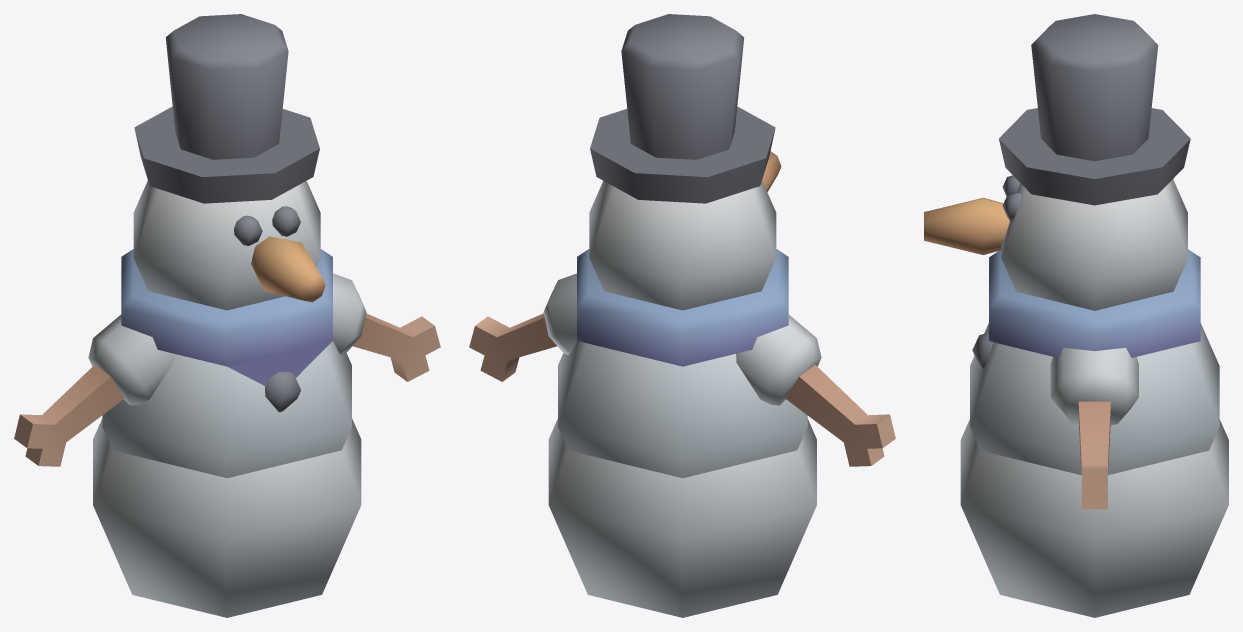
File: snowman.glb
3 views of the same model, side by side, from view 1: azimuth 30°, elevation 25°; view 2: azimuth 150°, elevation 25°; view 3: azimuth 270°, elevation 25° (orthographic).
Parts seen in each view (by area): view 1: snowman; view 2: snowman; view 3: snowman.
Boxes of the visible parts, x1,y1,x2,y2 form: snowman: (14, 14, 440, 617); snowman: (469, 14, 895, 617); snowman: (924, 14, 1228, 617).
Bounding box in the file's own units: 1.08 × 1.36 × 0.6883.
